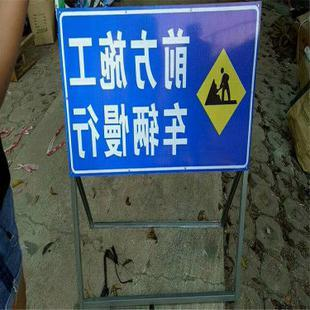sign: (59, 1, 262, 179)
